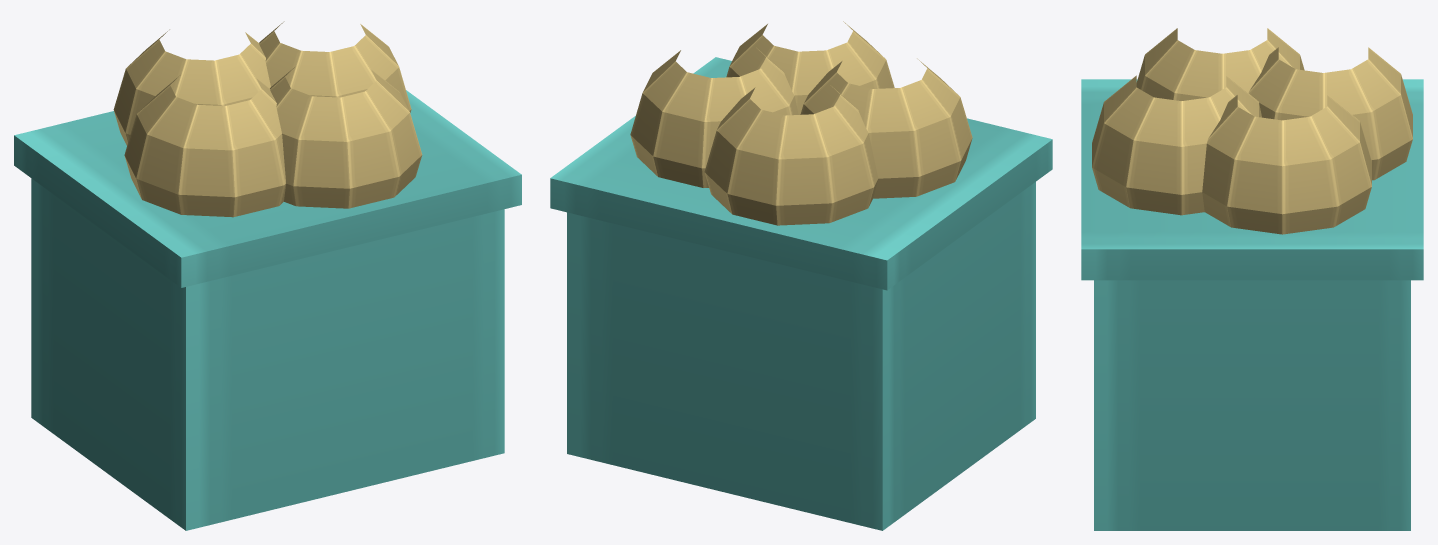
The model's file is crate_plastic.glb.
3 renders of one model, left to right at view 1: azimuth 30°, elevation 25°; view 2: azimuth 150°, elevation 25°; view 3: azimuth 270°, elevation 25°, orthographic. The views are drawn at different scales.
Parts seen in each view (by area): view 1: crate_plastic; view 2: crate_plastic; view 3: crate_plastic.
Part boxes in pixels (bbox=[...]): crate_plastic: bbox=[14, 21, 521, 530]; crate_plastic: bbox=[550, 21, 1052, 530]; crate_plastic: bbox=[1081, 28, 1423, 530].
Size of the model in its own units: 0.94 by 1.02 by 0.8.
1 material, 1 textured.
